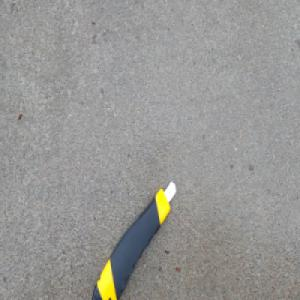Cutter: (89, 178, 177, 299)
